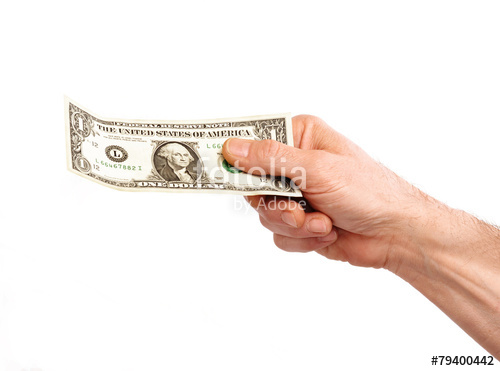billete: (63, 94, 304, 199)
